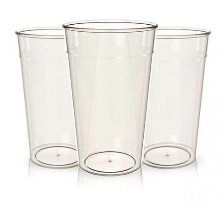glass: (59, 13, 158, 178), (126, 23, 216, 169), (7, 22, 88, 171)
